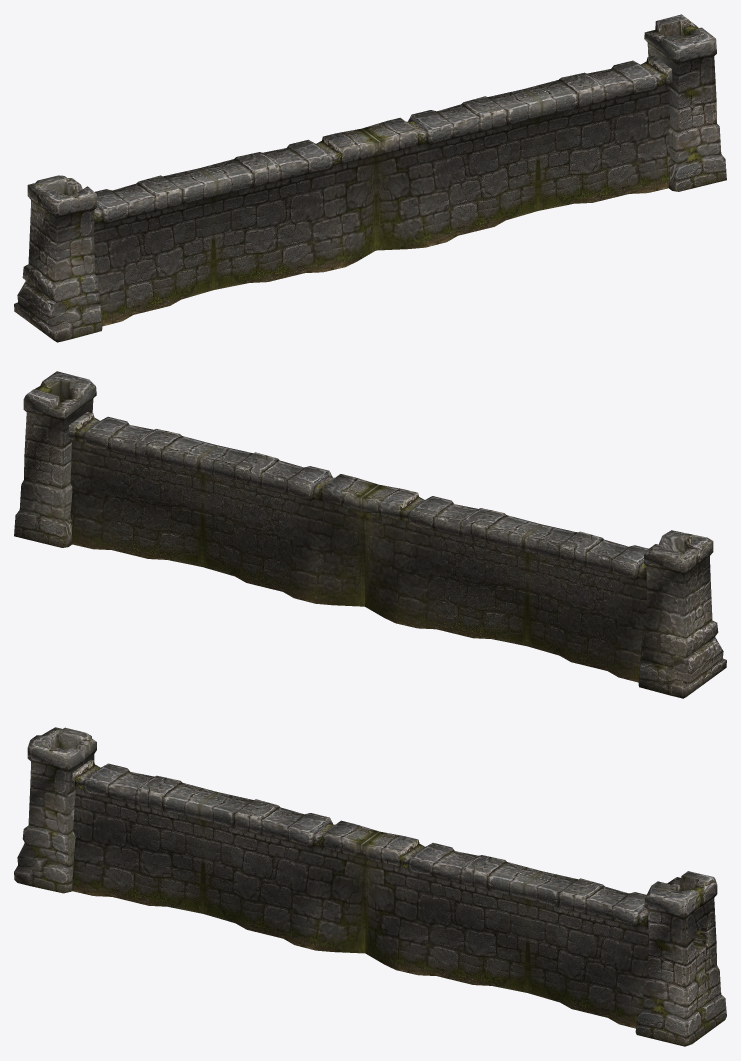
File: wall.glb
3 renders of one model, top to bottom at view 1: azimuth 30°, elevation 25°; view 2: azimuth 150°, elevation 25°; view 3: azimuth 330°, elevation 25°, orthographic.
Visible parts, largest first — view 1: center3, center2, center4, center, left, right; view 2: center3, center2, center4, center, left, right; view 3: center2, center3, center, center4, right, left.
Boxes of the visible parts, x1,y1,x2,y2 form: center3: (362, 89, 541, 250); center2: (199, 128, 379, 289); center4: (524, 56, 672, 210); center: (94, 168, 217, 326); left: (14, 175, 102, 342); right: (644, 14, 726, 191); center3: (199, 445, 378, 606); center2: (361, 485, 540, 646); center4: (68, 412, 216, 566); center: (523, 524, 648, 682); left: (638, 530, 726, 698); right: (14, 371, 96, 547); center2: (199, 792, 379, 953); center3: (361, 831, 541, 992); center: (72, 759, 216, 913); center4: (524, 871, 700, 1028); right: (635, 871, 726, 1046); left: (14, 727, 96, 893).
Bounding box in the file's own units: 2.28 × 0.4526 × 0.2446.
Materials: 1 (1 with a texture image).
